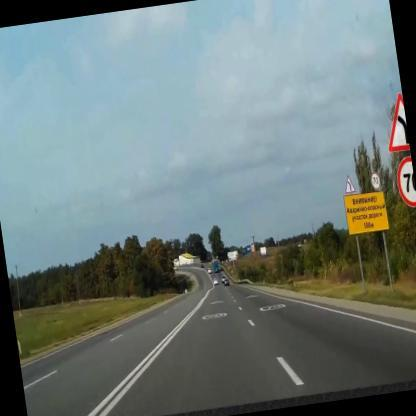obstructed_road_sign: (389, 92, 409, 151), (398, 157, 416, 207)
road_sign: (345, 176, 357, 194), (370, 173, 381, 191)
